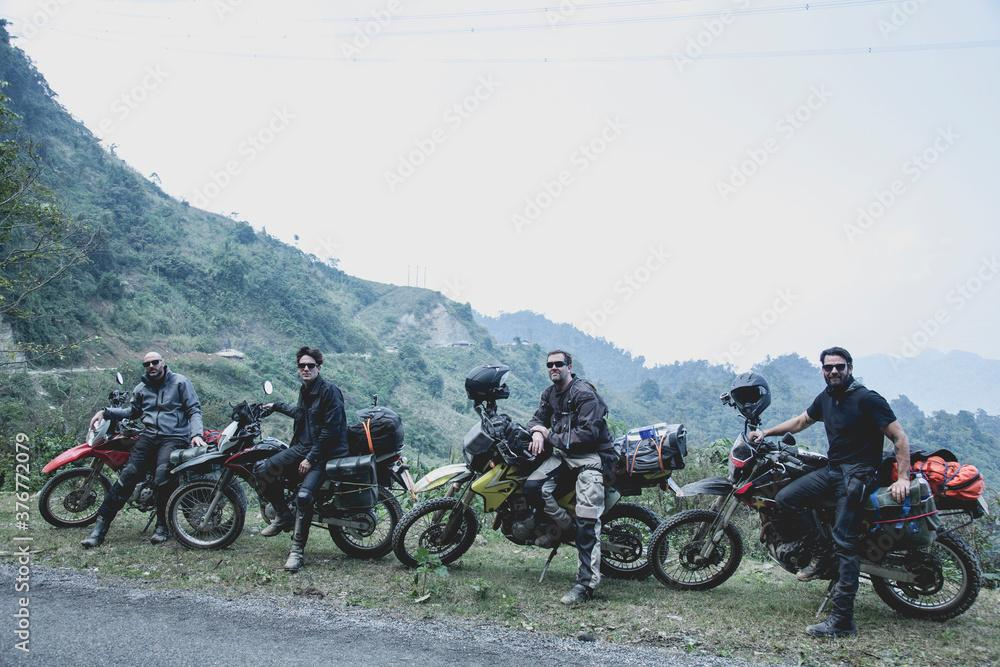helmet: (730, 371, 772, 420), (464, 363, 511, 400)
nohelmet: (819, 346, 854, 389), (296, 345, 324, 382), (545, 349, 573, 383), (142, 351, 165, 379)
